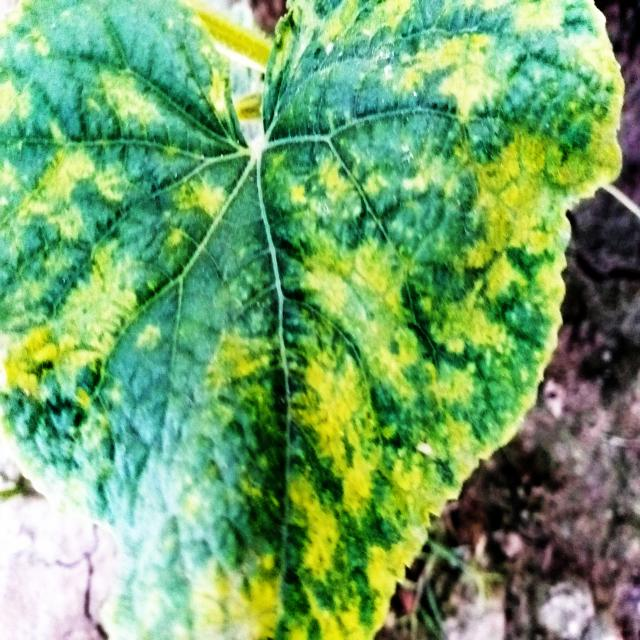Downy-Mildew: (1, 0, 625, 640)
